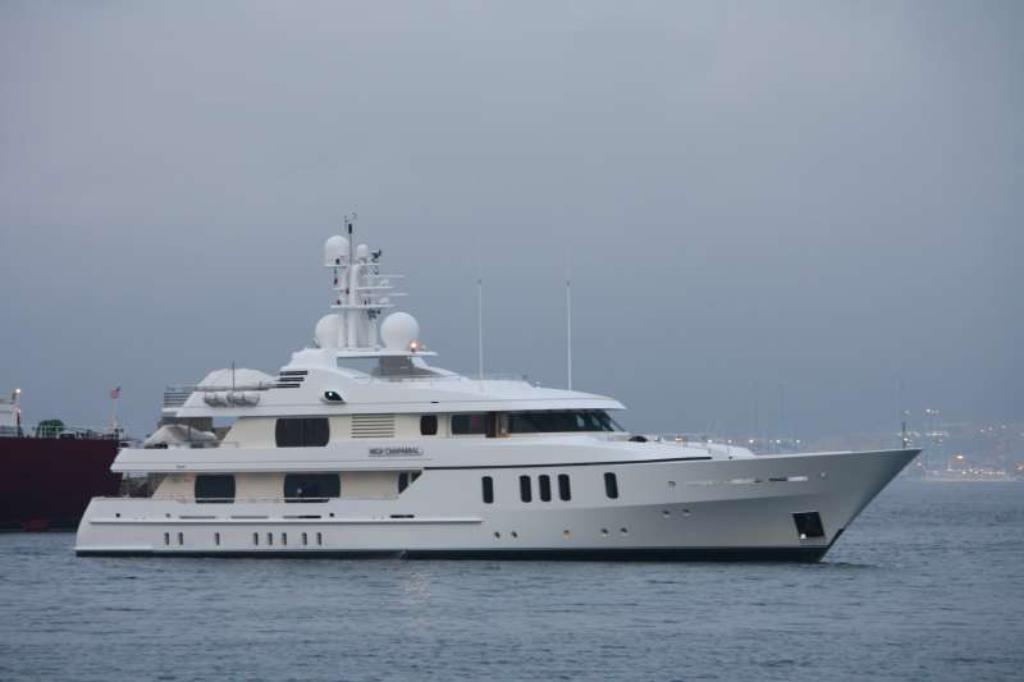PassengerShip: (68, 206, 934, 564)
